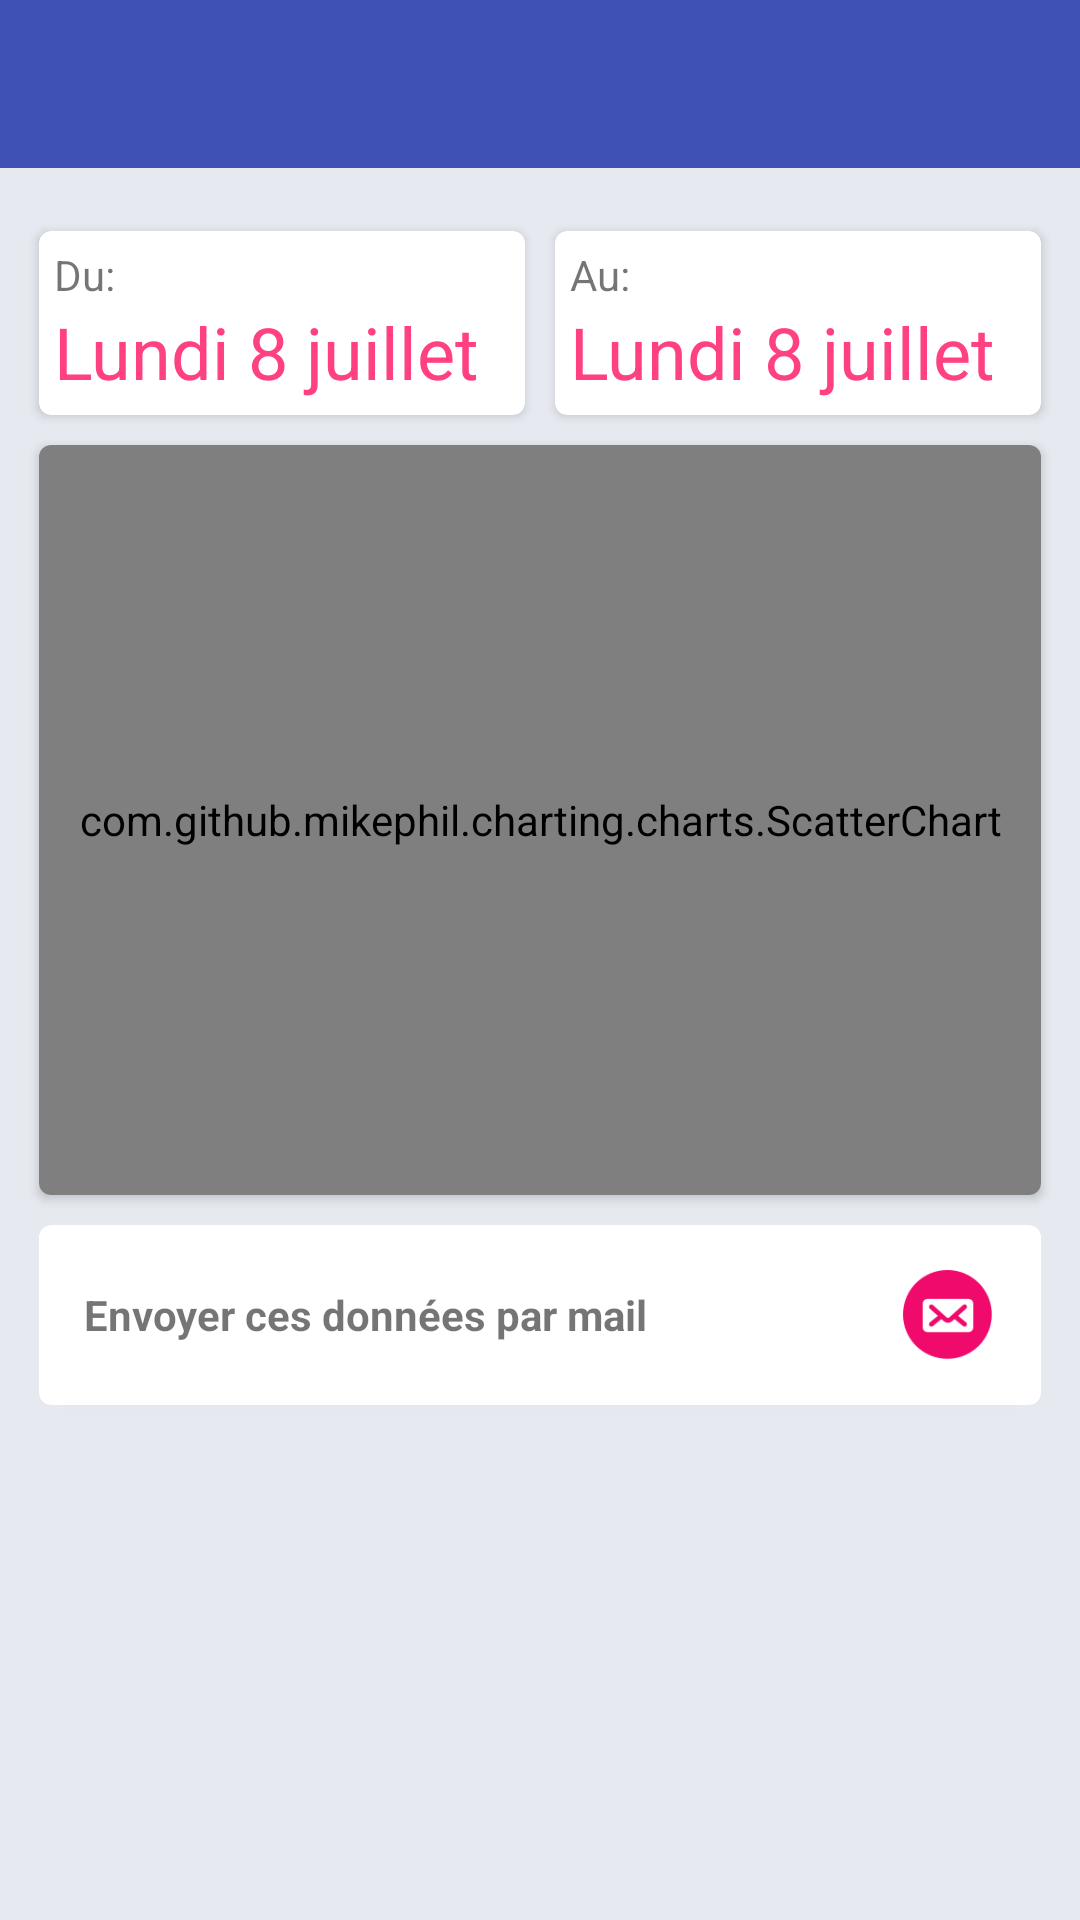

Screen size 1080px x 1920px. Icon name, then its center in pixels as [x,y]:
historic send: [947,1314]
